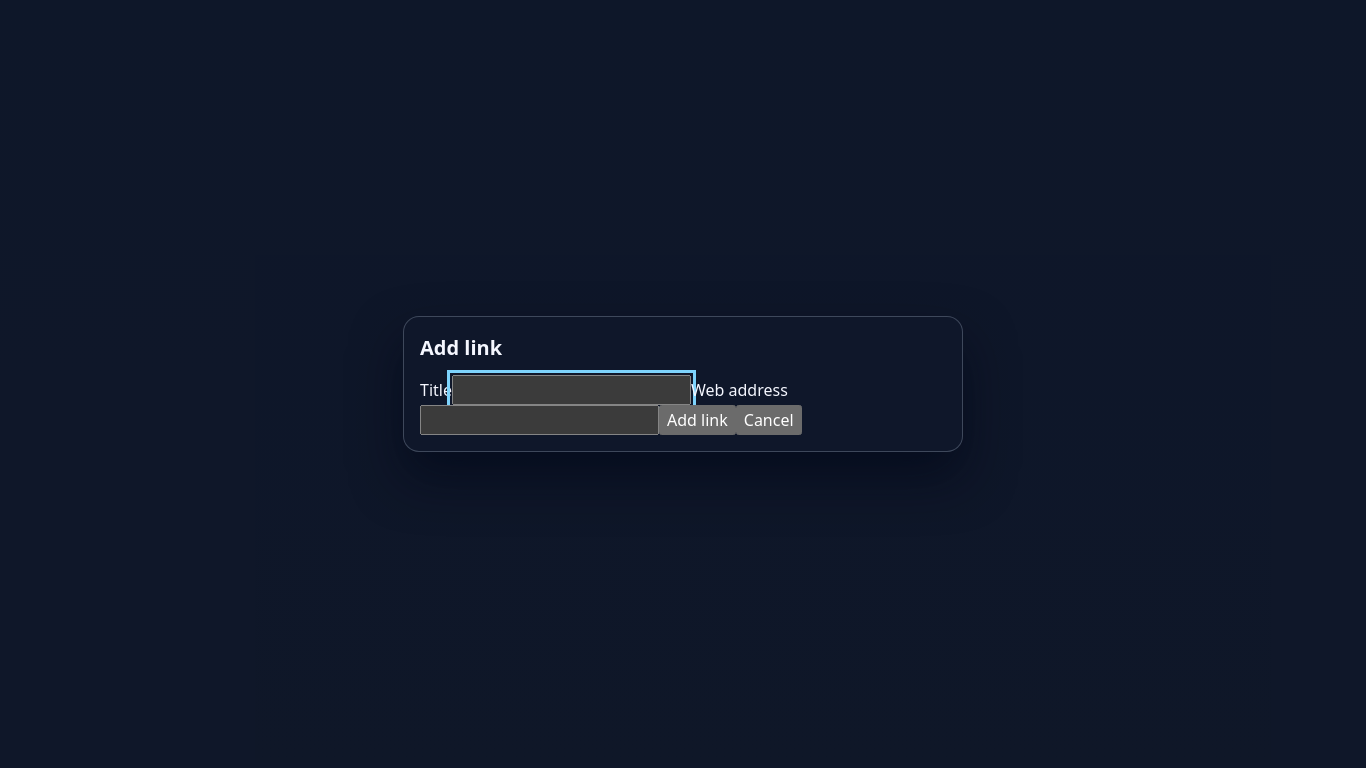
Test: LinkDialog › requires a web address with an allowed scheme
Type "Example Site" into the field labelled "Title" at (572, 390), box [452, 375, 691, 405]
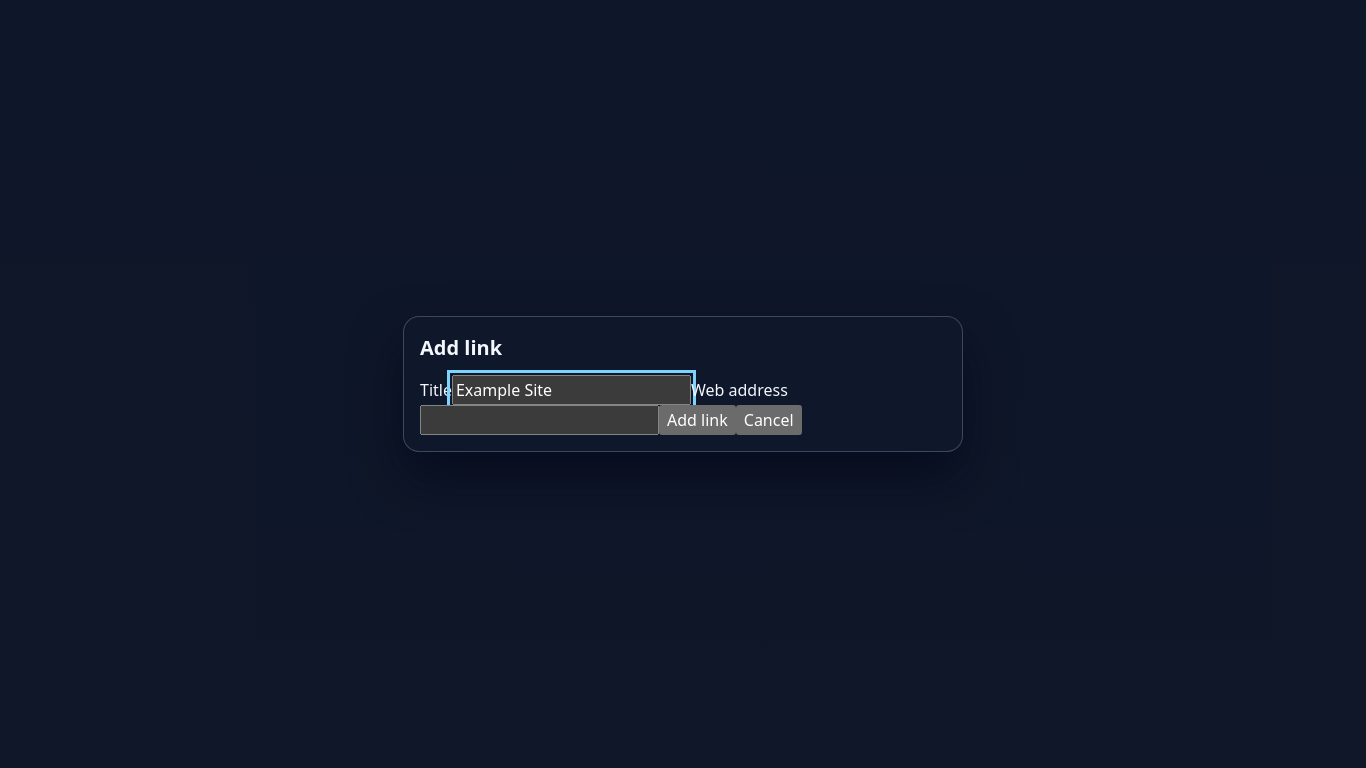
Type "ftp://example.com/file" into the field labelled "Web address" at (540, 420), box [420, 405, 659, 435]
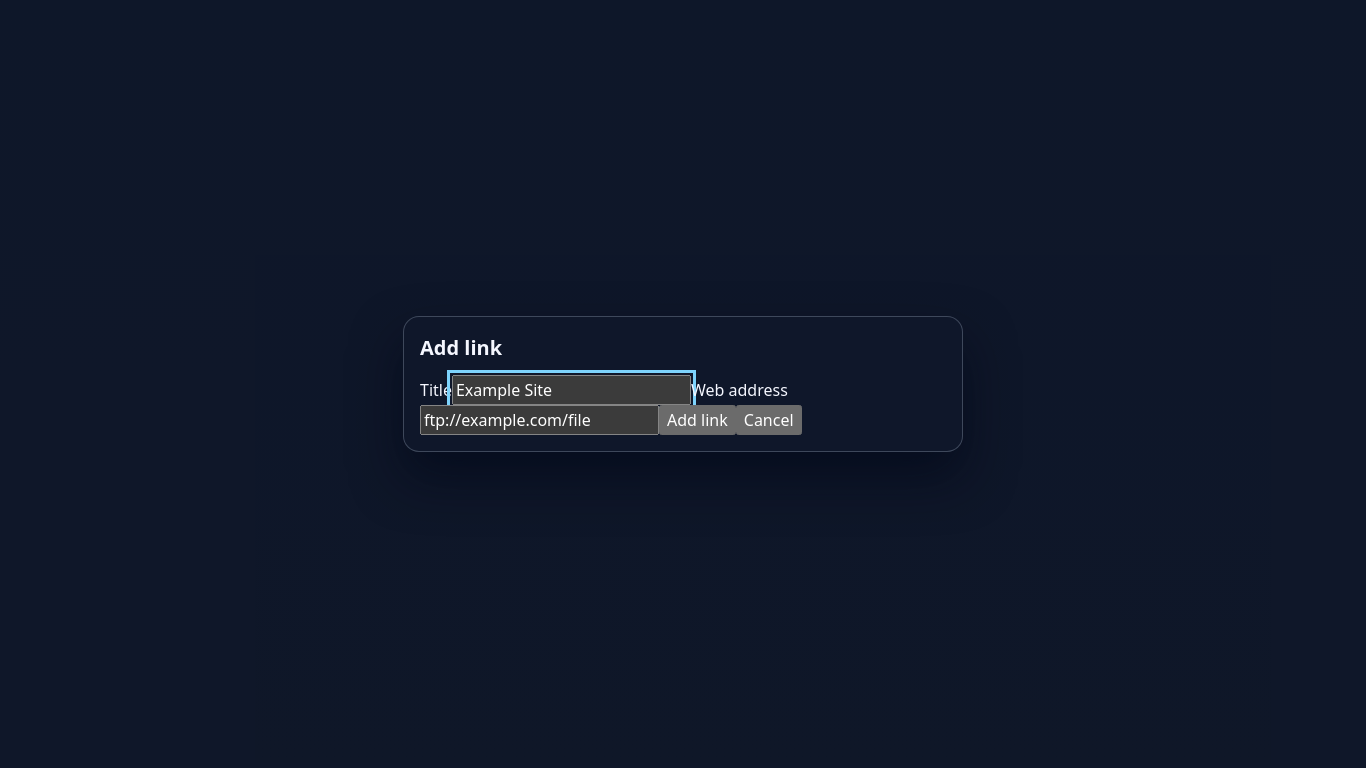
Click the button "Add link" at (697, 420), box [659, 405, 736, 435]
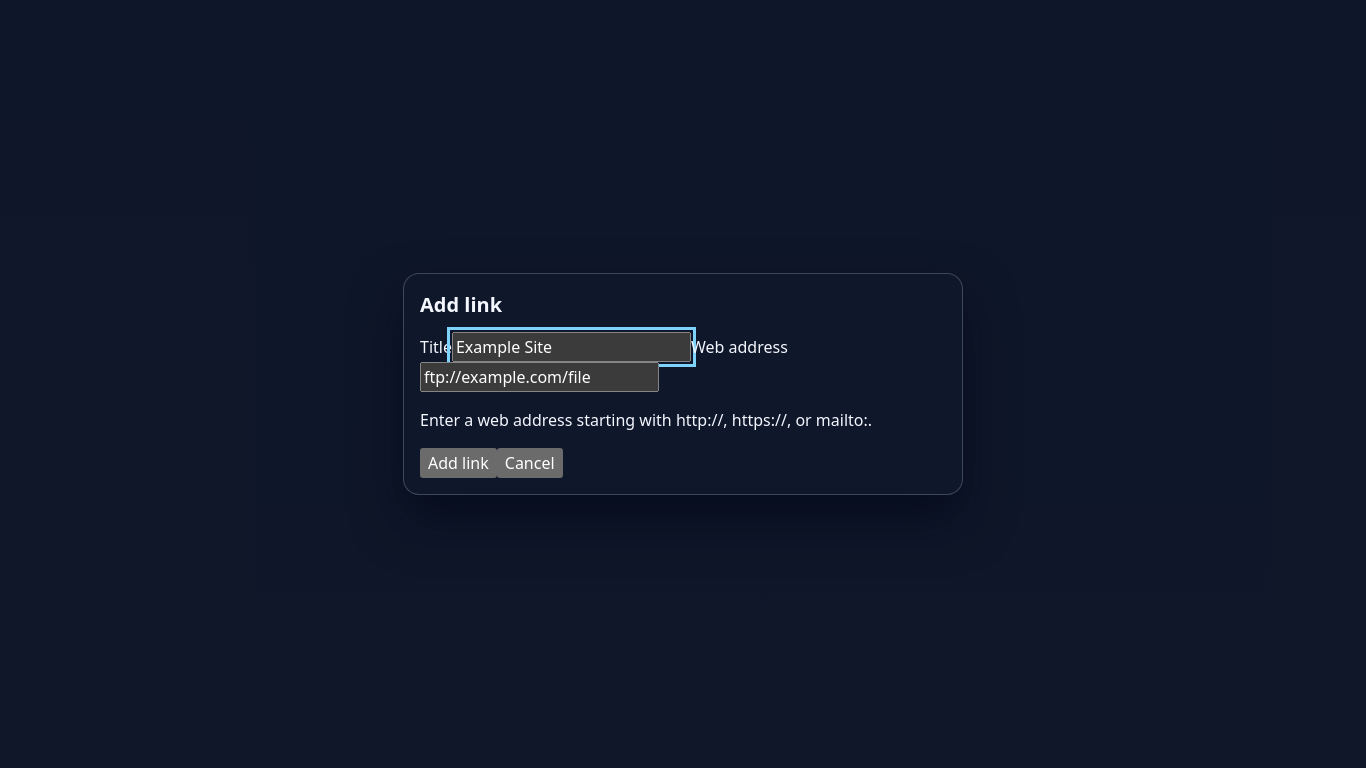
Result: the message reads "Enter a web address starting with http://, https://, or mailto:." at [420, 409, 872, 431]
